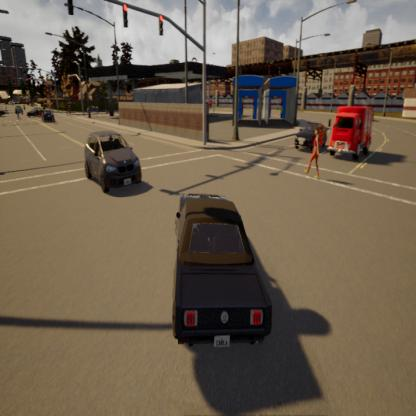Cars: (168, 180, 280, 365), (74, 118, 148, 204), (333, 84, 378, 172), (286, 91, 326, 157), (40, 106, 62, 130), (25, 98, 45, 124)
Pedestrian: (306, 125, 324, 185)
